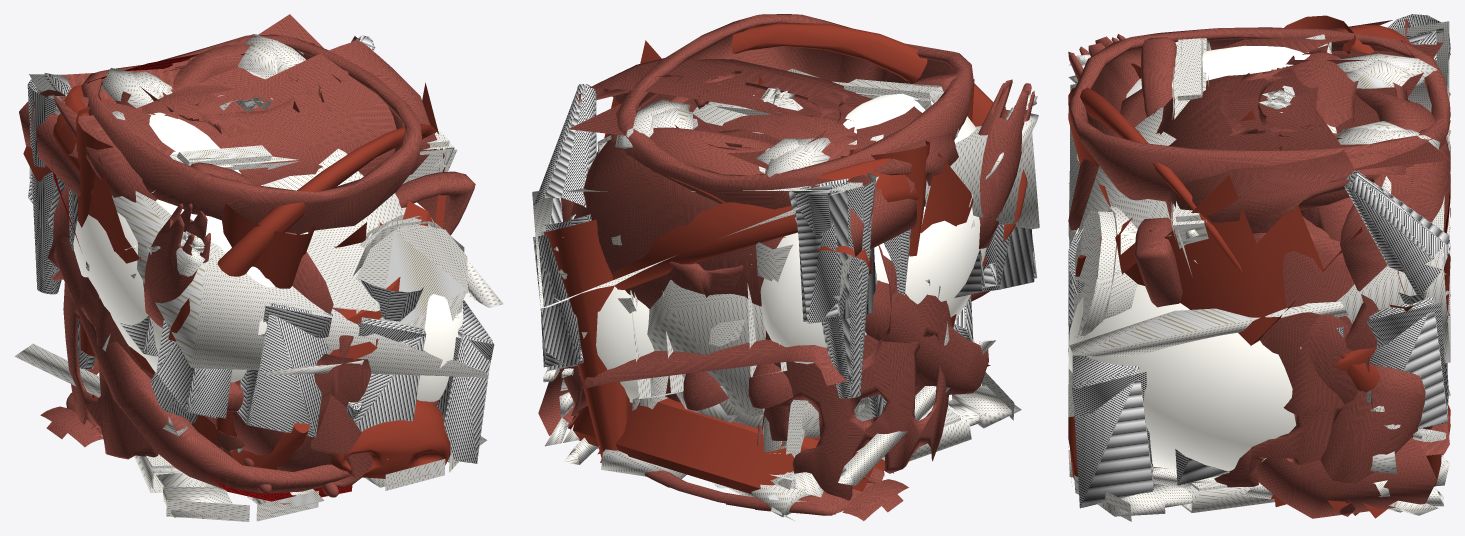
Rendered from foxy.glb.
The picture shows the model from 3 angles, left to right: view 1: azimuth 30°, elevation 25°; view 2: azimuth 150°, elevation 25°; view 3: azimuth 270°, elevation 25°; orthographic projection. The views are drawn at different scales.
Visible parts, largest first — view 1: cabeza, cuerpo, mandibula; view 2: cabeza, cuerpo, mandibula; view 3: cuerpo, cabeza, mandibula.
Boxes of the visible parts, <box> form: cabeza: <box>14,73,503,497</box>; cuerpo: <box>52,14,486,521</box>; mandibula: <box>23,35,492,504</box>; cabeza: <box>533,22,1034,521</box>; cuerpo: <box>543,14,1038,517</box>; mandibula: <box>532,84,1039,398</box>; cuerpo: <box>1068,20,1450,521</box>; cabeza: <box>1068,14,1450,518</box>; mandibula: <box>1068,21,1450,508</box>.
Bounding box in the file's own units: 65535 × 65535 × 65535.
19 materials, 15 textured.
